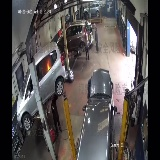fire: (45, 59, 51, 74)
